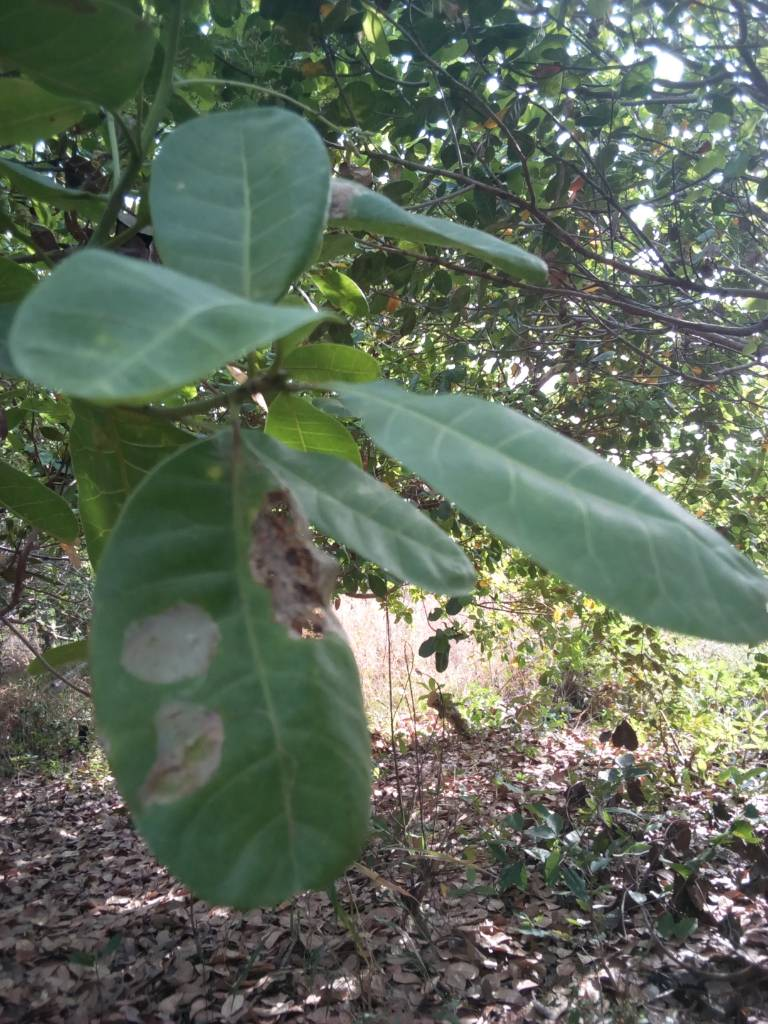Dysdercus wolkerii: (91, 419, 404, 922)
